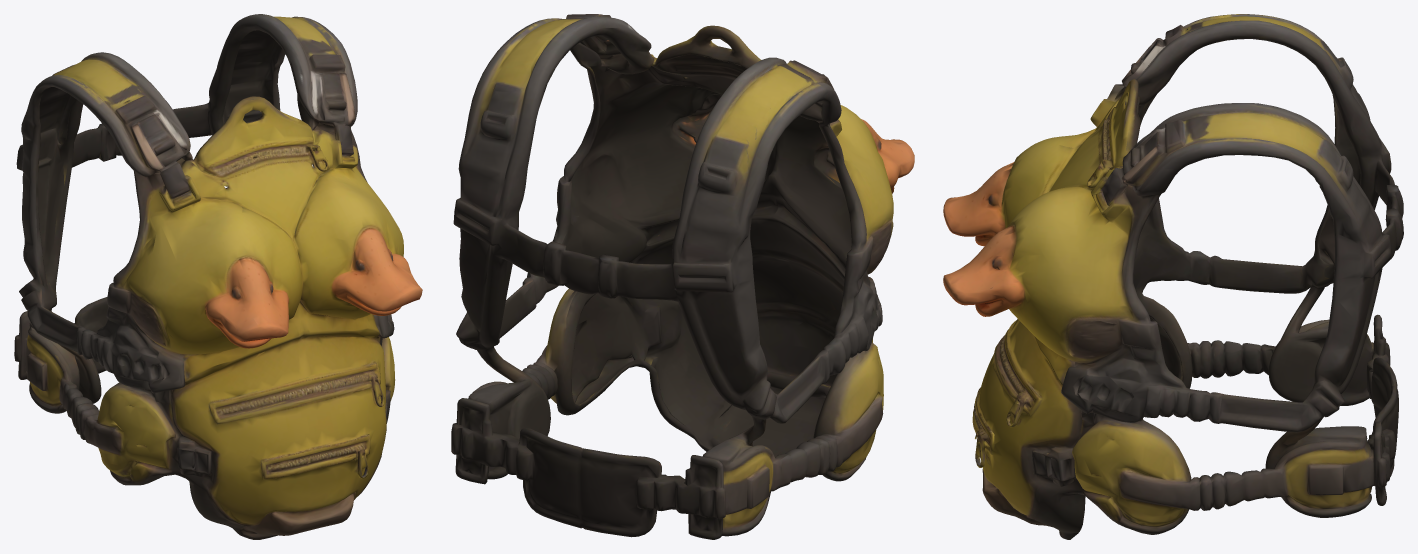
The model's file is duckarmorbackpack.glb.
3 renders of one model, left to right at view 1: azimuth 30°, elevation 25°; view 2: azimuth 150°, elevation 25°; view 3: azimuth 270°, elevation 25°, orthographic. The views are drawn at different scales.
Visible parts, largest first — view 1: duckarmorbackpack; view 2: duckarmorbackpack; view 3: duckarmorbackpack.
Boxes of the visible parts, x1,y1,x2,y2 form: duckarmorbackpack: (14,14,422,539); duckarmorbackpack: (451,14,914,539); duckarmorbackpack: (943,14,1403,539).
Size of the model in its own units: 0.6914 by 1.01 by 0.9118.
1 material, 1 textured.
